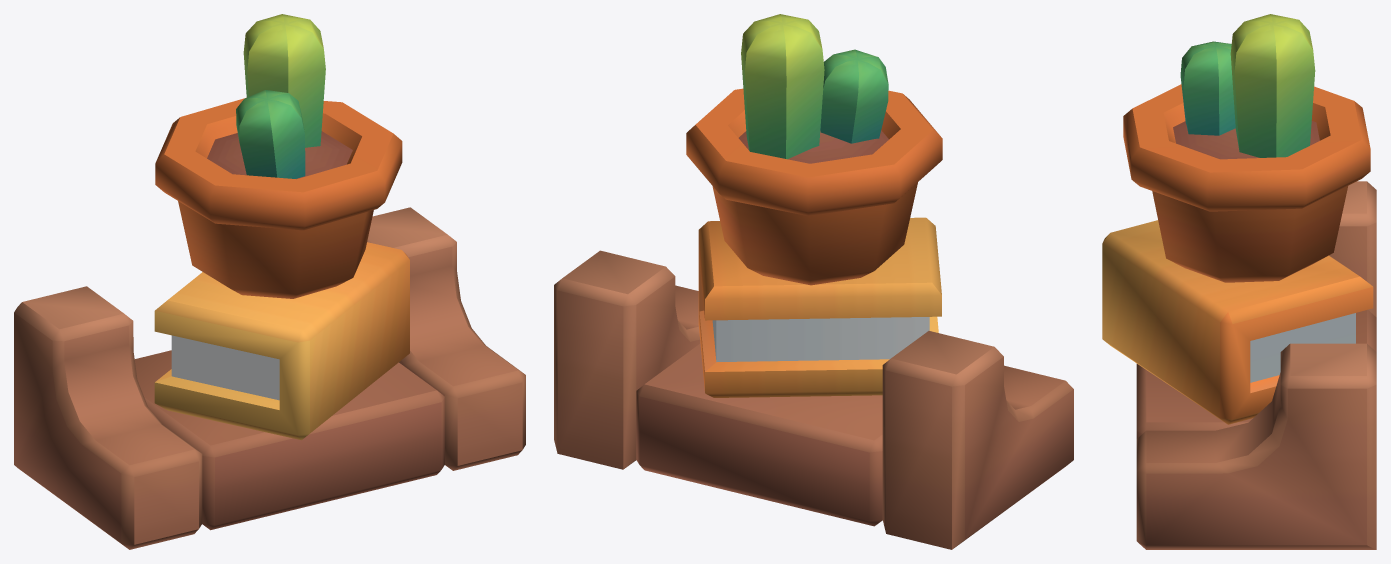
File: shelf_B_small_decorated.glb
3 views of the same model, side by side, from view 1: azimuth 30°, elevation 25°; view 2: azimuth 150°, elevation 25°; view 3: azimuth 270°, elevation 25° (orthographic). The views are drawn at different scales.
Visible parts, largest first — view 1: shelf_B_small_decorated; view 2: shelf_B_small_decorated; view 3: shelf_B_small_decorated.
Part boxes in pixels (box(x1,y1,x2,y2)): shelf_B_small_decorated: box(14, 14, 525, 549); shelf_B_small_decorated: box(554, 14, 1073, 549); shelf_B_small_decorated: box(1102, 14, 1376, 549).
Size of the model in its own units: 1 by 1.01 by 0.5713.
1 material, 1 textured.
